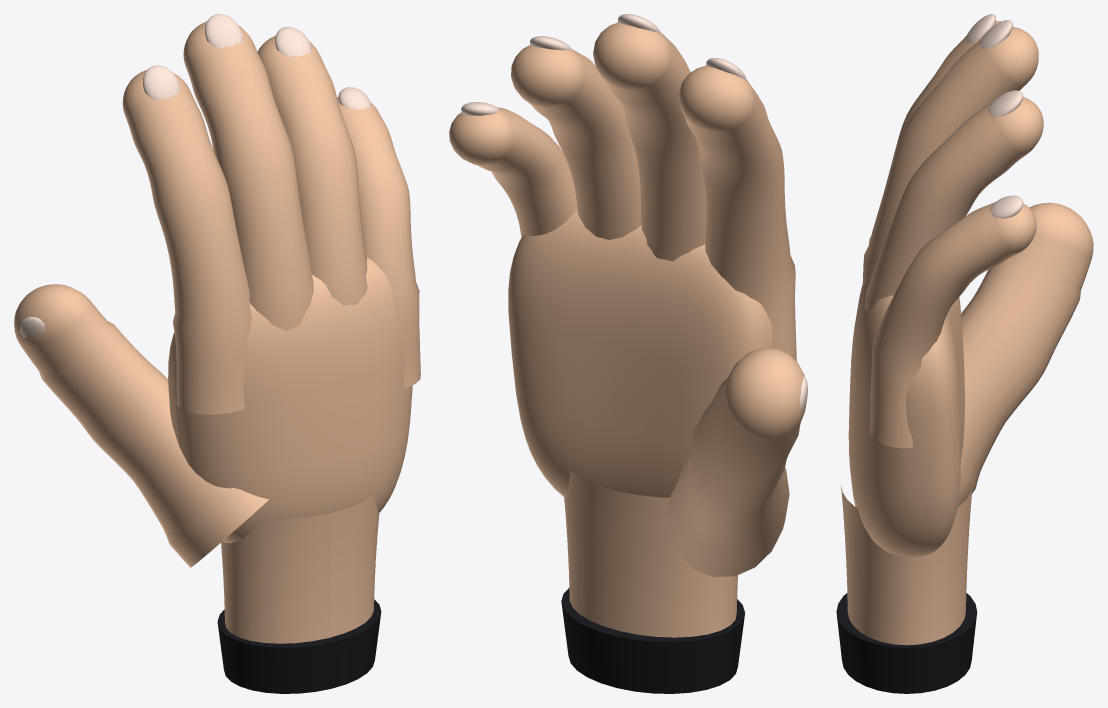
File: hand-right-cup.glb
3 renders of one model, left to right at view 1: azimuth 30°, elevation 25°; view 2: azimuth 150°, elevation 25°; view 3: azimuth 270°, elevation 25°, orthographic. The views are drawn at different scales.
Visible parts, largest first — view 1: hand-right-cup; view 2: hand-right-cup; view 3: hand-right-cup.
Part boxes in pixels (x1,y1,x2,y2): hand-right-cup: [14, 14, 420, 693]; hand-right-cup: [449, 14, 807, 693]; hand-right-cup: [836, 14, 1093, 693].
Size of the model in its own units: 0.1152 by 0.2042 by 0.0763.
